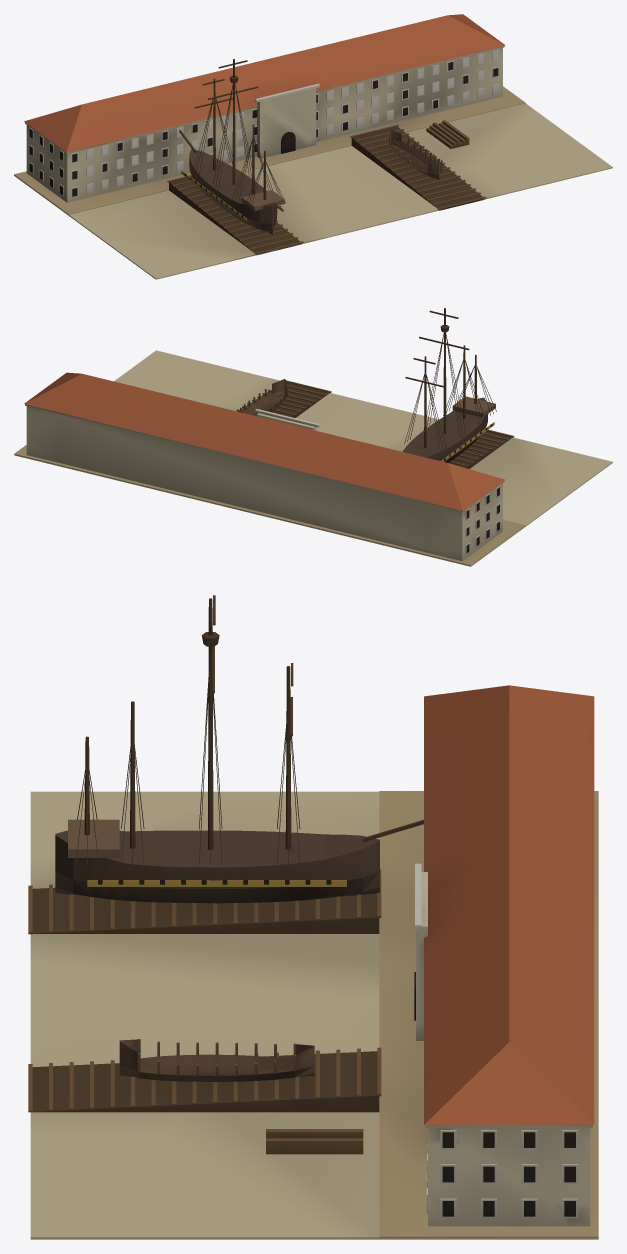
File: ribeira-das-naus-1800.glb
3 views of the same model, one above another, from view 1: azimuth 30°, elevation 25°; view 2: azimuth 150°, elevation 25°; view 3: azimuth 270°, elevation 25° (orthographic). The views are drawn at different scales.
Parts seen in each view (by area): view 1: p1_ships, p0_slipways, p2_yard; view 2: p1_ships, p0_slipways, p2_yard; view 3: p0_slipways, p1_ships, p2_yard.
Boxes of the visible parts, <box> form: p1_ships: <box>24,14,505,234</box>; p0_slipways: <box>14,86,612,279</box>; p2_yard: <box>389,120,469,180</box>; p1_ships: <box>24,308,505,561</box>; p0_slipways: <box>14,350,612,566</box>; p2_yard: <box>237,379,288,416</box>; p0_slipways: <box>28,791,598,1239</box>; p1_ships: <box>55,595,594,1226</box>; p2_yard: <box>119,1039,363,1154</box>.
Size of the model in its own units: 130 by 42.85 by 70.25.
